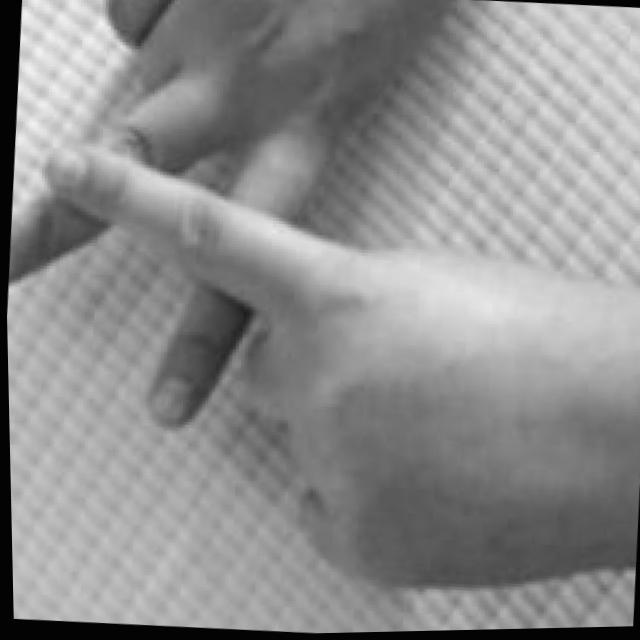A: (0, 0, 601, 612)
